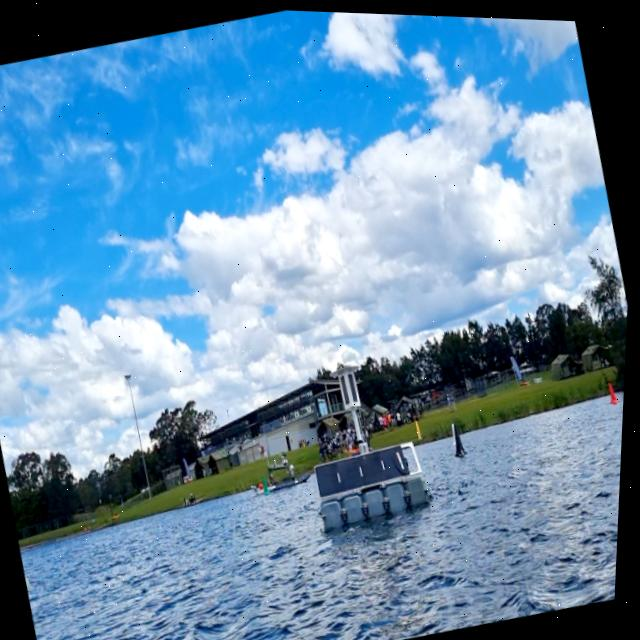led: (348, 368, 365, 402), (341, 370, 356, 403)
